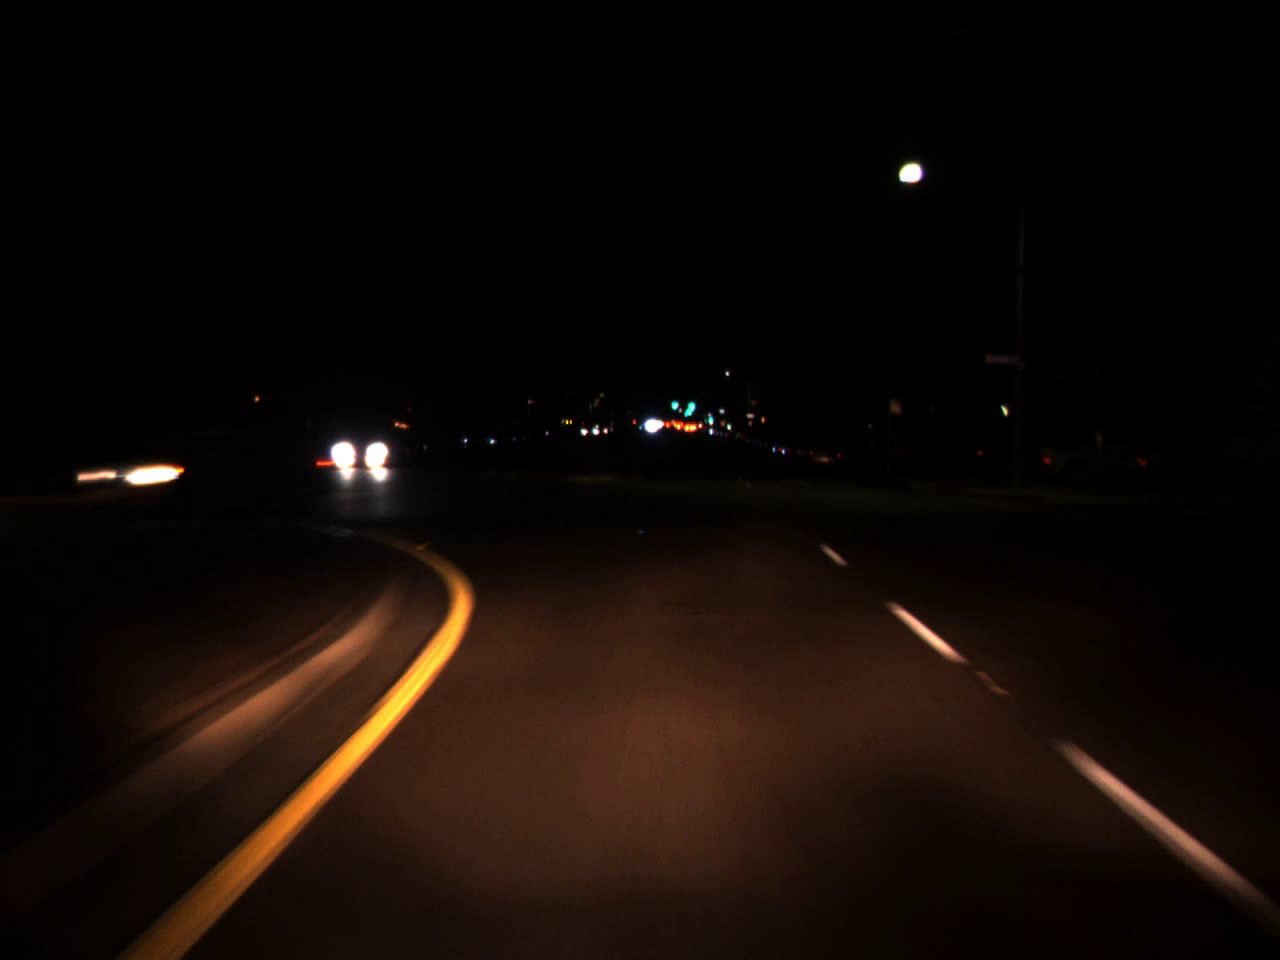go: (681, 391, 695, 415), (670, 390, 677, 414), (707, 412, 714, 424)
